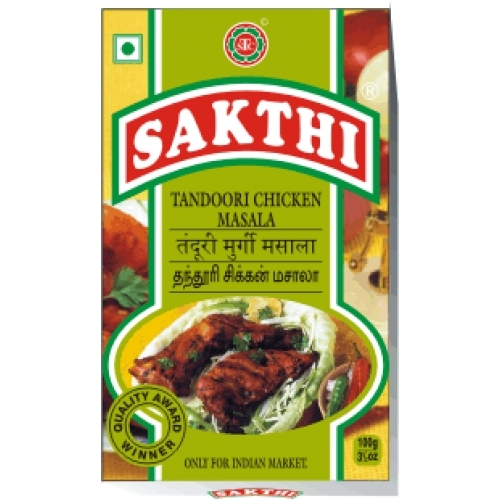VEG: (111, 32, 144, 63)
